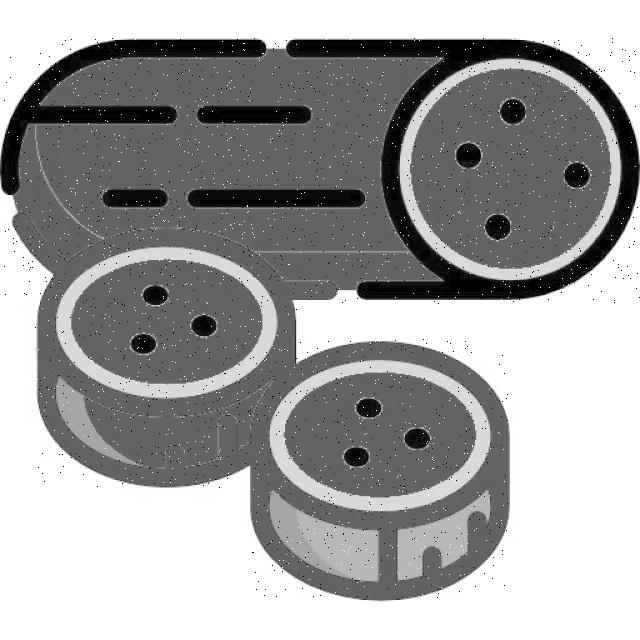cucumber: (5, 39, 640, 305), (35, 230, 299, 490), (253, 340, 509, 599)
